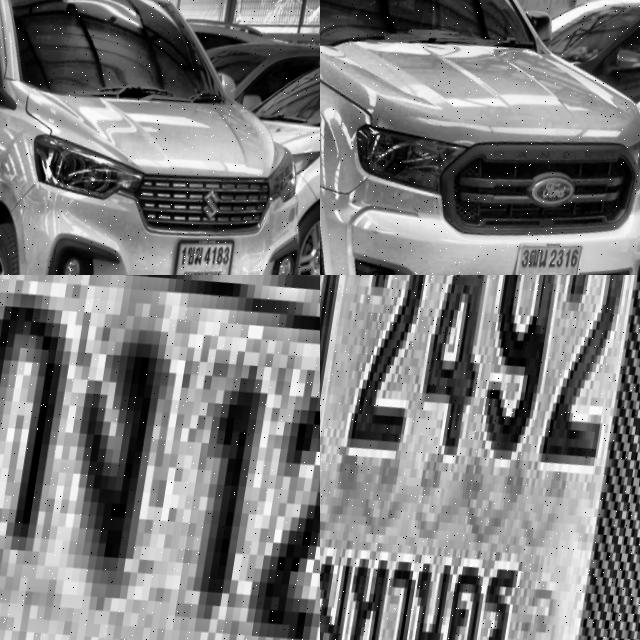license-plate: (0, 275, 320, 640), (320, 275, 640, 640), (170, 236, 241, 275), (509, 240, 586, 275)
